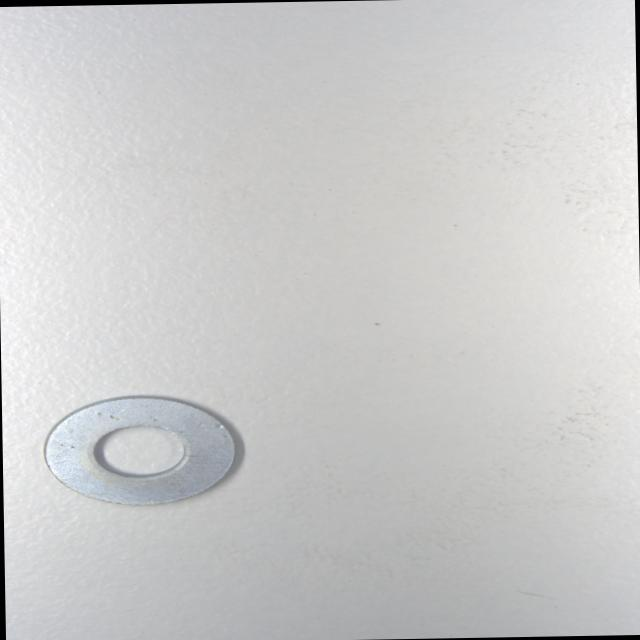washer: (39, 392, 238, 507)
